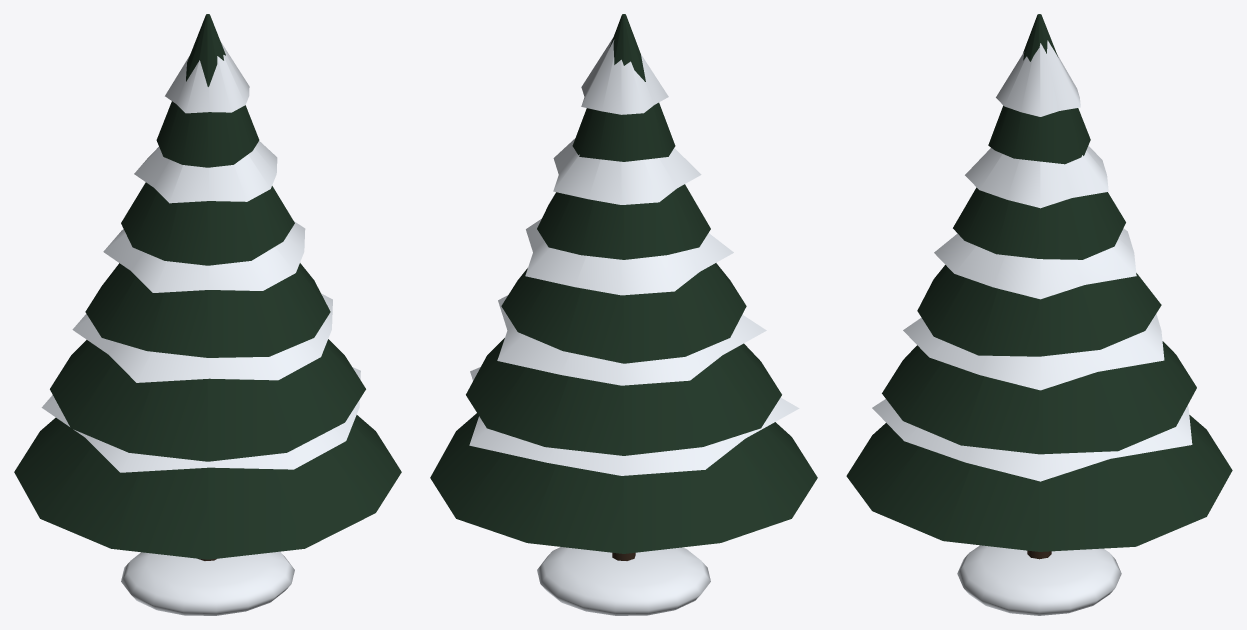
The model's file is pine_a.glb.
3 renders of one model, left to right at view 1: azimuth 30°, elevation 25°; view 2: azimuth 150°, elevation 25°; view 3: azimuth 270°, elevation 25°, orthographic.
Parts seen in each view (by area): view 1: Pine; view 2: Pine; view 3: Pine.
Boxes of the visible parts, box(x1,y1,x2,y2) form: Pine: box(14, 14, 401, 615); Pine: box(430, 14, 817, 615); Pine: box(846, 14, 1232, 615).
Bounding box in the file's own units: 3.66 × 6.05 × 3.66.
